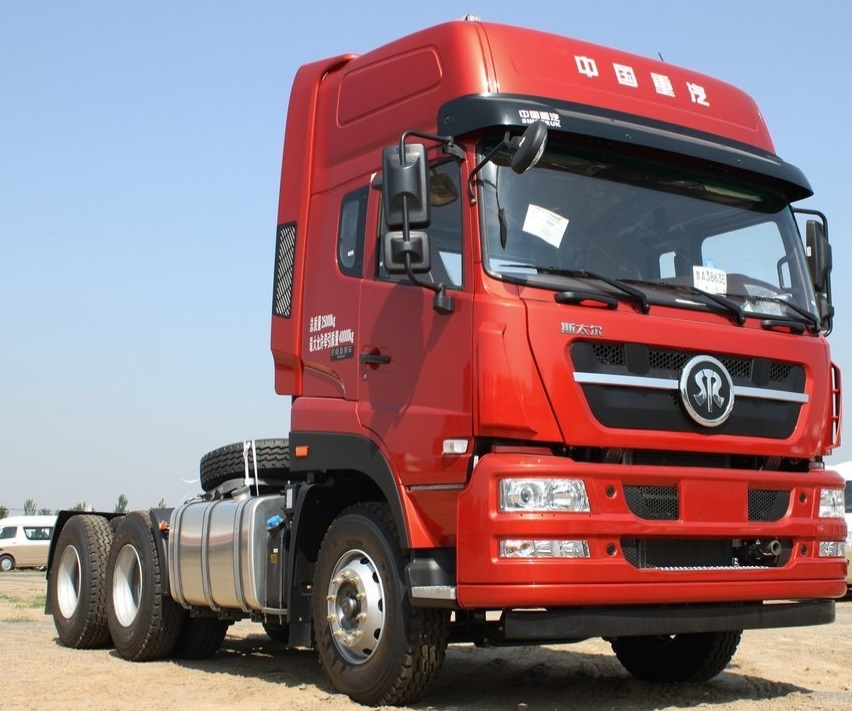heavy truck: (54, 70, 837, 685)
